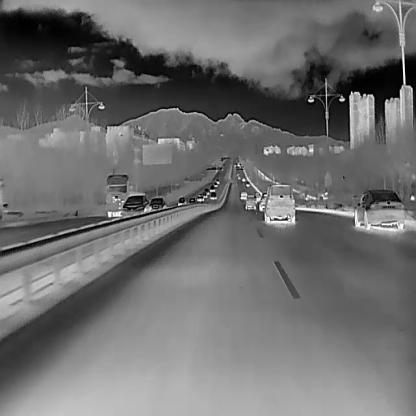car: (353, 188, 405, 230), (264, 184, 295, 224), (121, 194, 150, 216), (150, 197, 166, 211), (259, 192, 270, 210), (176, 196, 186, 204), (239, 190, 247, 199), (196, 194, 204, 202), (254, 192, 261, 200), (210, 191, 216, 199), (189, 197, 195, 204), (236, 174, 242, 180), (204, 187, 209, 194), (245, 180, 250, 187), (202, 191, 206, 198), (216, 178, 220, 184), (241, 176, 245, 182), (210, 185, 214, 190), (213, 181, 217, 186), (222, 162, 225, 167)
truck: (105, 174, 146, 218), (244, 195, 256, 210)
